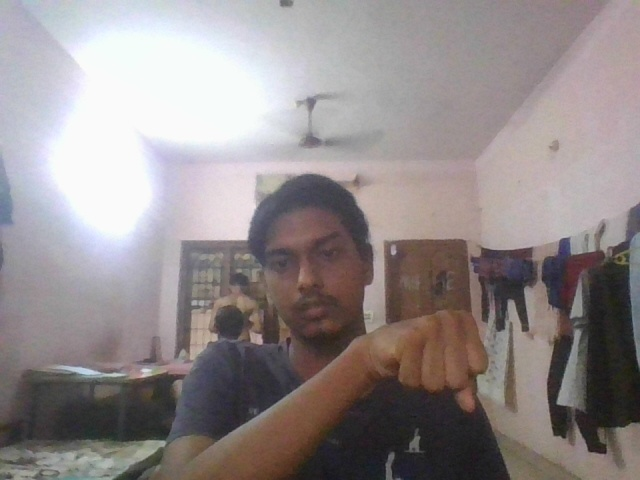yes: (360, 294, 492, 420)
